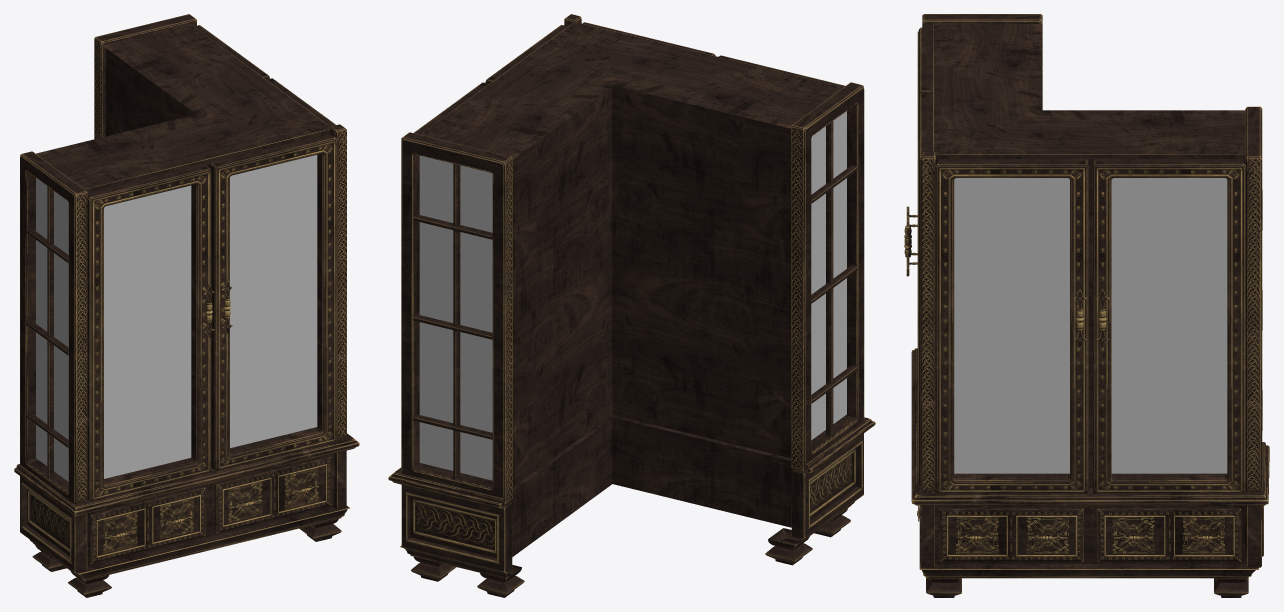
File: SM_Vitrin3_Outward90D.fbx
3 renders of one model, left to right at view 1: azimuth 30°, elevation 25°; view 2: azimuth 150°, elevation 25°; view 3: azimuth 270°, elevation 25°, orthographic. The views are drawn at different scales.
Visible parts, largest first — view 1: SM_Vitrin3_Outward90D_LOD0; view 2: SM_Vitrin3_Outward90D_LOD0; view 3: SM_Vitrin3_Outward90D_LOD0.
Boxes of the visible parts, x1,y1,x2,y2 form: SM_Vitrin3_Outward90D_LOD0: [14, 14, 359, 597]; SM_Vitrin3_Outward90D_LOD0: [388, 14, 875, 597]; SM_Vitrin3_Outward90D_LOD0: [904, 14, 1269, 597].
Size of the model in its own units: 173 by 173 by 233.
2 materials, 1 textured.
